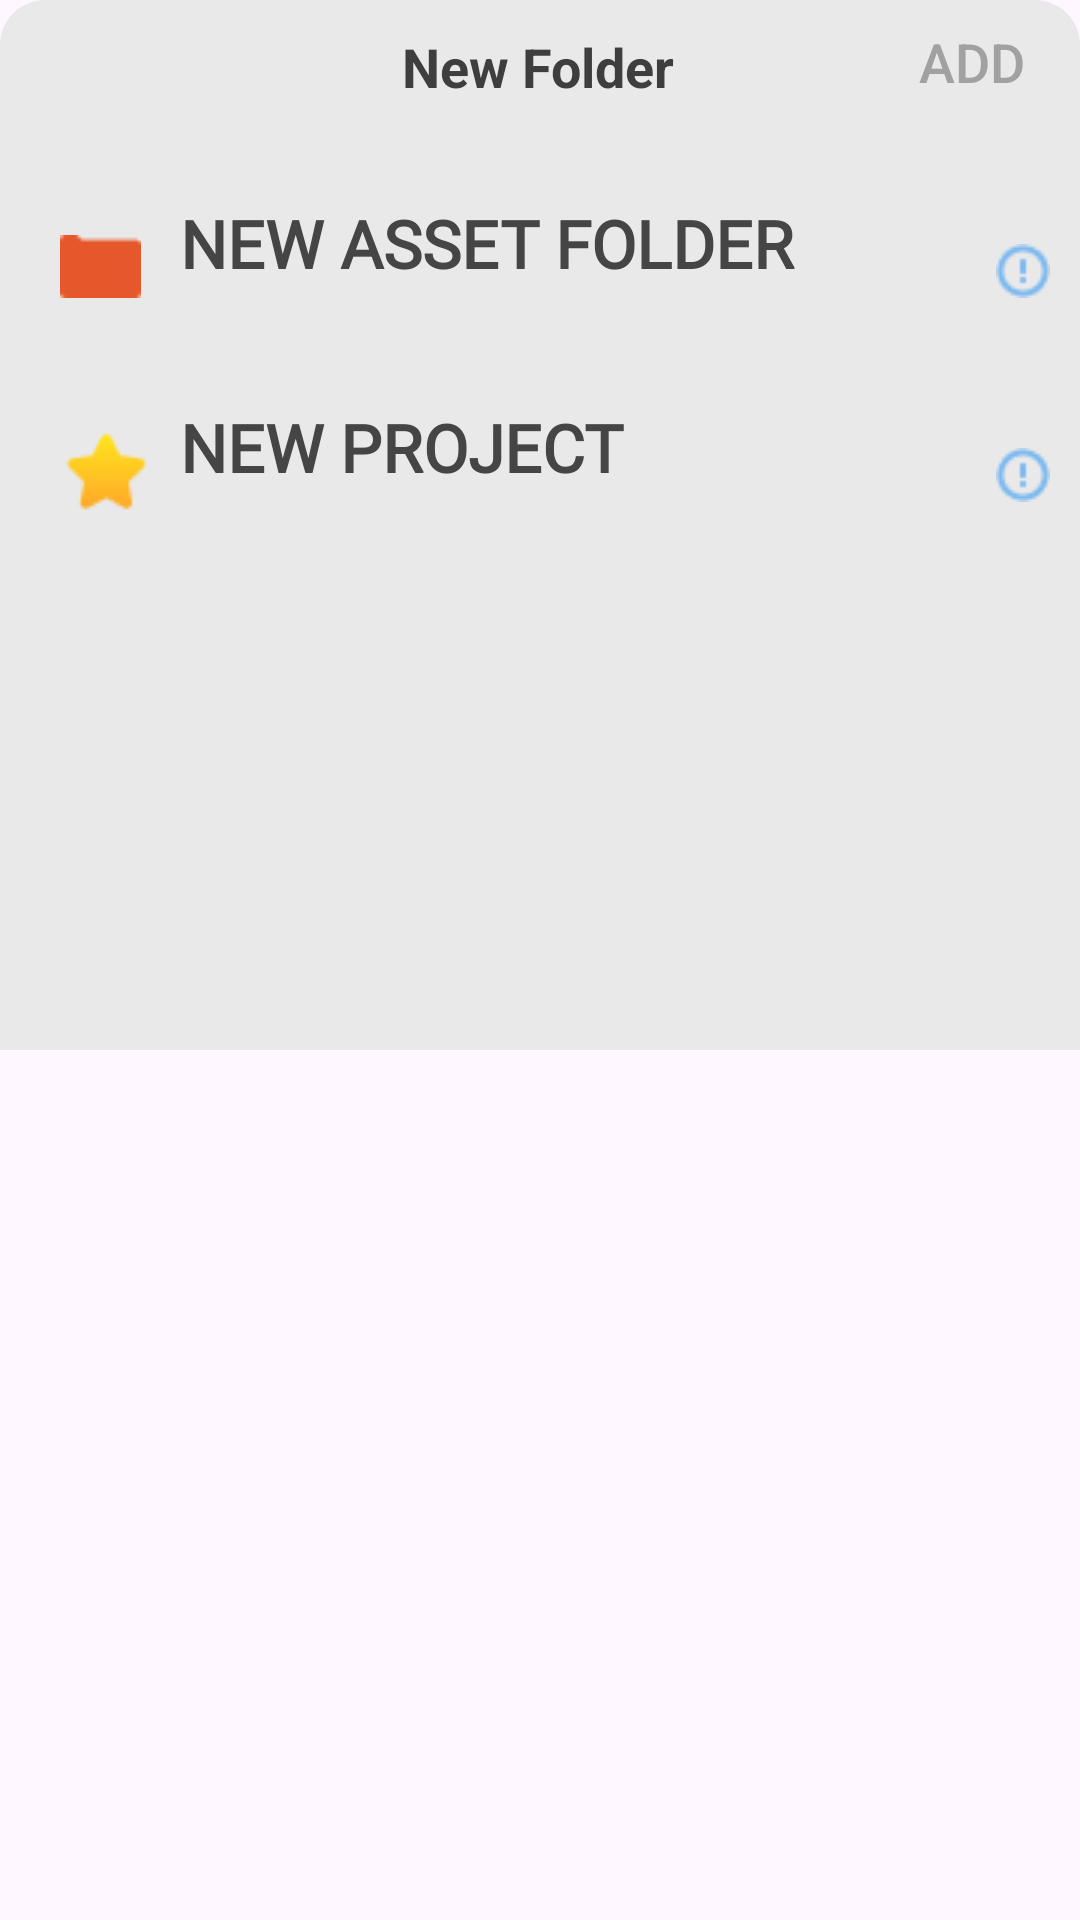

Point at icon controls on the screen. Image size 1080*1920, points as (x=x, y=y).
folder newfolder: (x=100, y=266)
